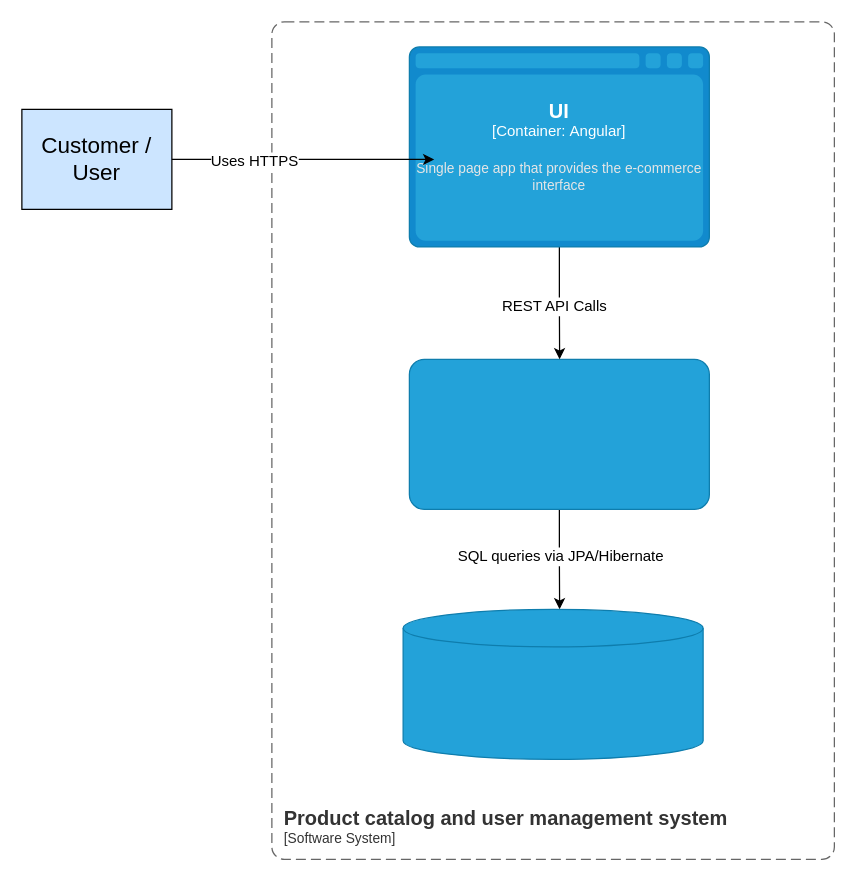
Some shapes in this 856 by 881 pixel diagram are drawn without their labels. The shapes that lost their labels are listed below. From the top down, each one's centre as x and y in pixels, then its label:
the point at 558,433: Backend [Container: Java, Spring Boot] Handles Auth, Catalog Management
the point at 552,683: Database [Container: MySQL/PostgreSQL] Stores users, roles, products, addresses
